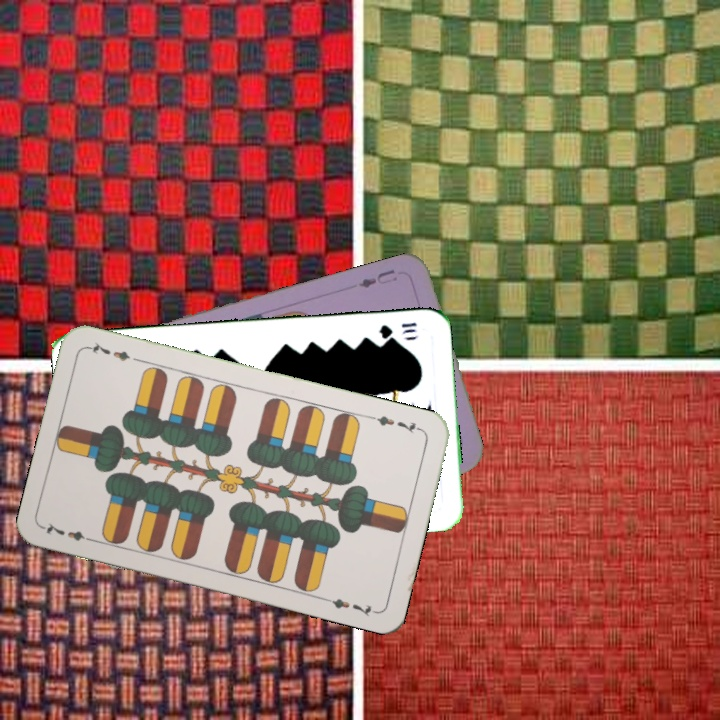E7: (40, 518, 98, 545), (367, 411, 425, 436)
EU: (354, 265, 400, 291)
G10: (375, 318, 419, 341)
